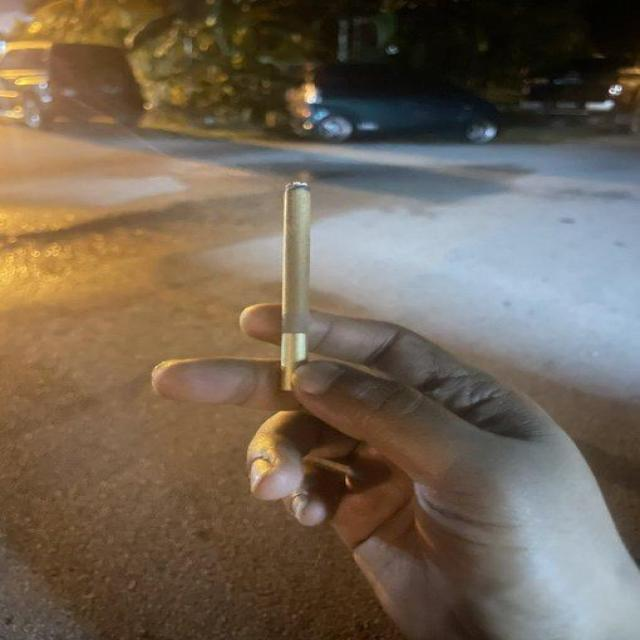rokok: (278, 177, 310, 407)
